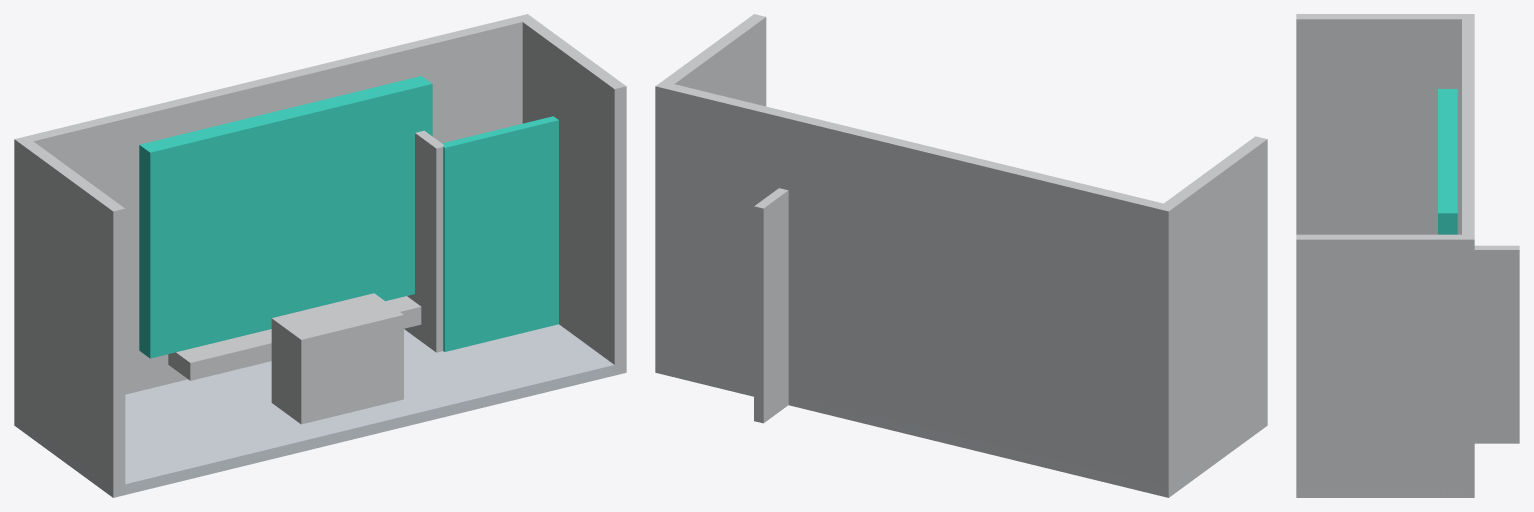
The picture shows the model from 3 angles, left to right: view 1: azimuth 30°, elevation 25°; view 2: azimuth 150°, elevation 25°; view 3: azimuth 270°, elevation 25°; orthographic projection. The views are drawn at different scales.
Visible parts, largest first — view 1: Exhibition Booth Concept; view 2: Exhibition Booth Concept; view 3: Exhibition Booth Concept.
Boxes of the visible parts, left/top/right/bottom form: Exhibition Booth Concept: left=14, top=14, right=626, bottom=497; Exhibition Booth Concept: left=655, top=14, right=1267, bottom=497; Exhibition Booth Concept: left=1296, top=14, right=1519, bottom=497.
Size of the model in its own units: 6 by 3.2 by 2.5.
